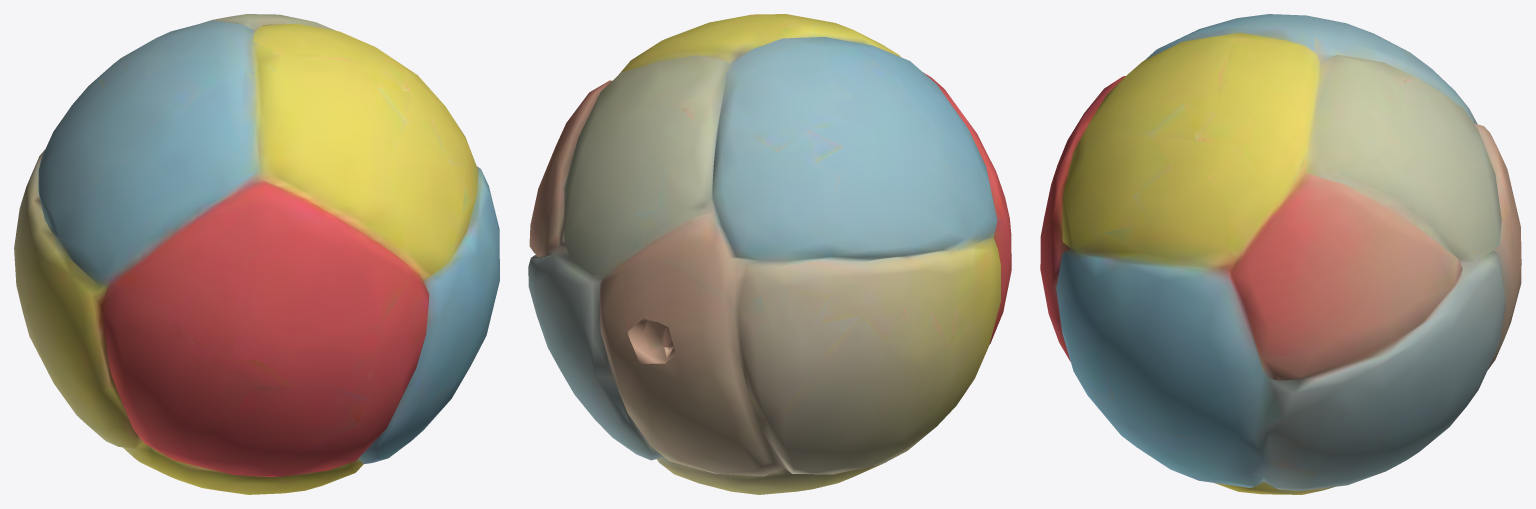
File: toy_ball.glb
3 renders of one model, left to right at view 1: azimuth 30°, elevation 25°; view 2: azimuth 150°, elevation 25°; view 3: azimuth 270°, elevation 25°, orthographic.
Visible parts, largest first — view 1: tripo_node_ba060e2e-fa8a-4849-b40e-d62c5689c19a; view 2: tripo_node_ba060e2e-fa8a-4849-b40e-d62c5689c19a; view 3: tripo_node_ba060e2e-fa8a-4849-b40e-d62c5689c19a.
Part boxes in pixels (x1,y1,x2,y2): tripo_node_ba060e2e-fa8a-4849-b40e-d62c5689c19a: (14, 14, 499, 494); tripo_node_ba060e2e-fa8a-4849-b40e-d62c5689c19a: (528, 14, 1011, 494); tripo_node_ba060e2e-fa8a-4849-b40e-d62c5689c19a: (1040, 14, 1521, 494).
Bounding box in the file's own units: 0.2983 × 0.3 × 0.2981.
Materials: 1 (1 with a texture image).
